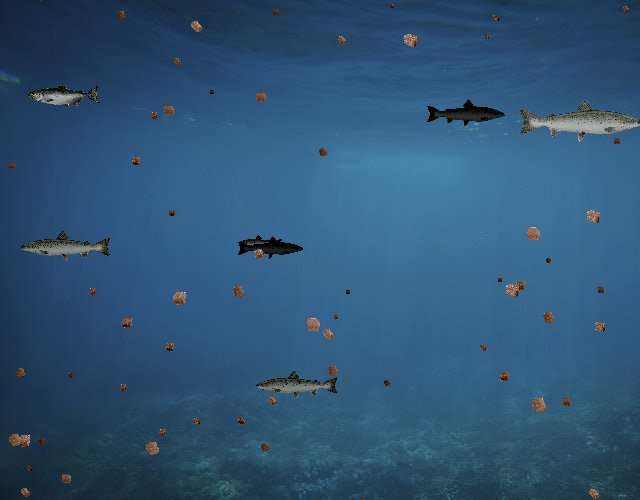Fish: (516, 97, 640, 143), (20, 229, 114, 263), (254, 369, 340, 400), (426, 98, 507, 127), (29, 83, 102, 109), (237, 236, 305, 260), (238, 235, 285, 252)
Pellet: (165, 284, 193, 312), (184, 14, 209, 39), (316, 323, 340, 347), (226, 280, 250, 304), (247, 243, 270, 266), (10, 362, 31, 383), (169, 54, 186, 71), (488, 11, 502, 24), (542, 254, 555, 267), (23, 463, 35, 475)
